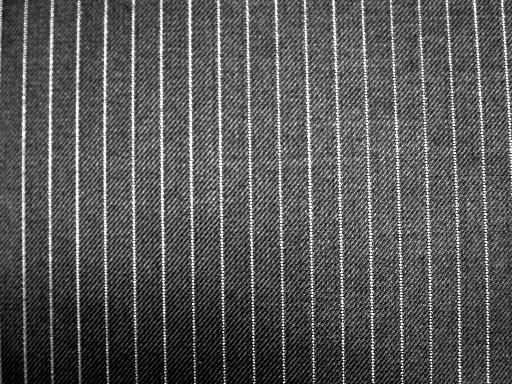fabric_perfect: (4, 6, 512, 382)
